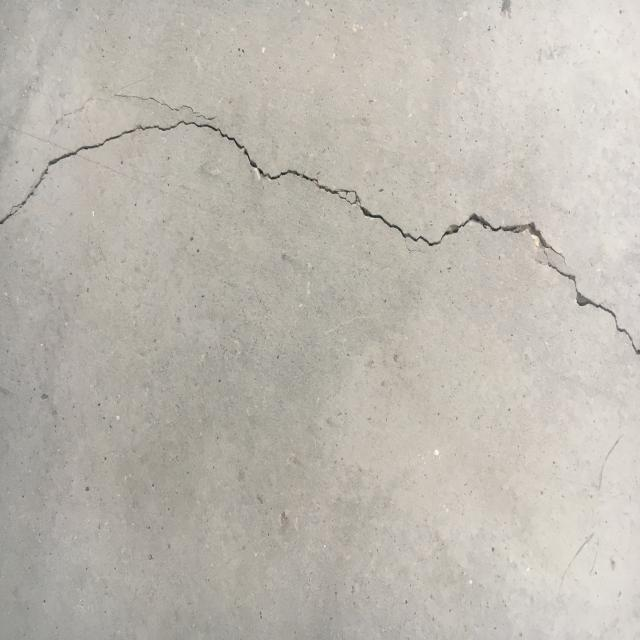Rachadura: (0, 115, 640, 363)
